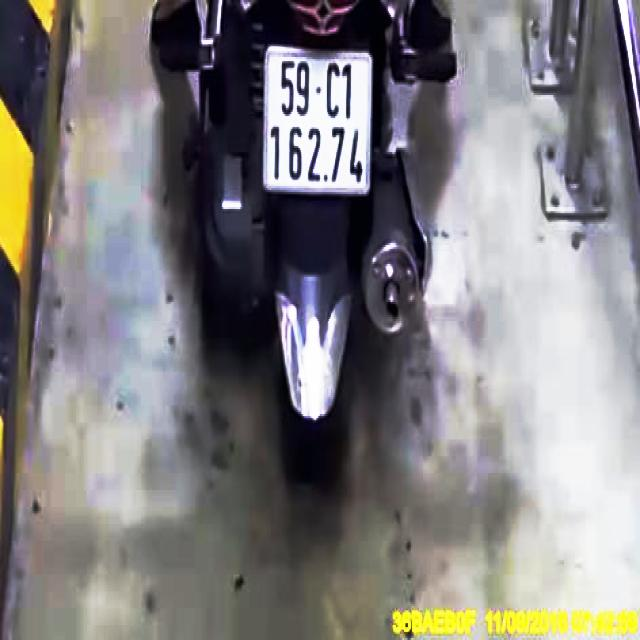license_plate: (266, 47, 372, 193)
